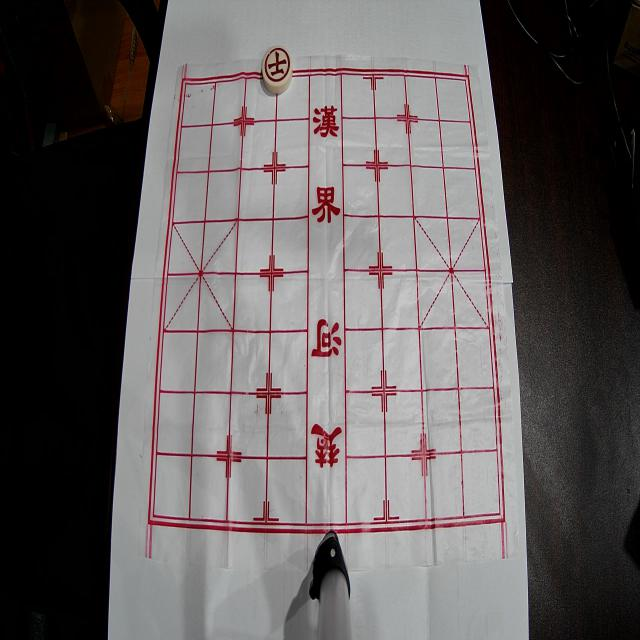red-guard: (262, 45, 292, 94)
